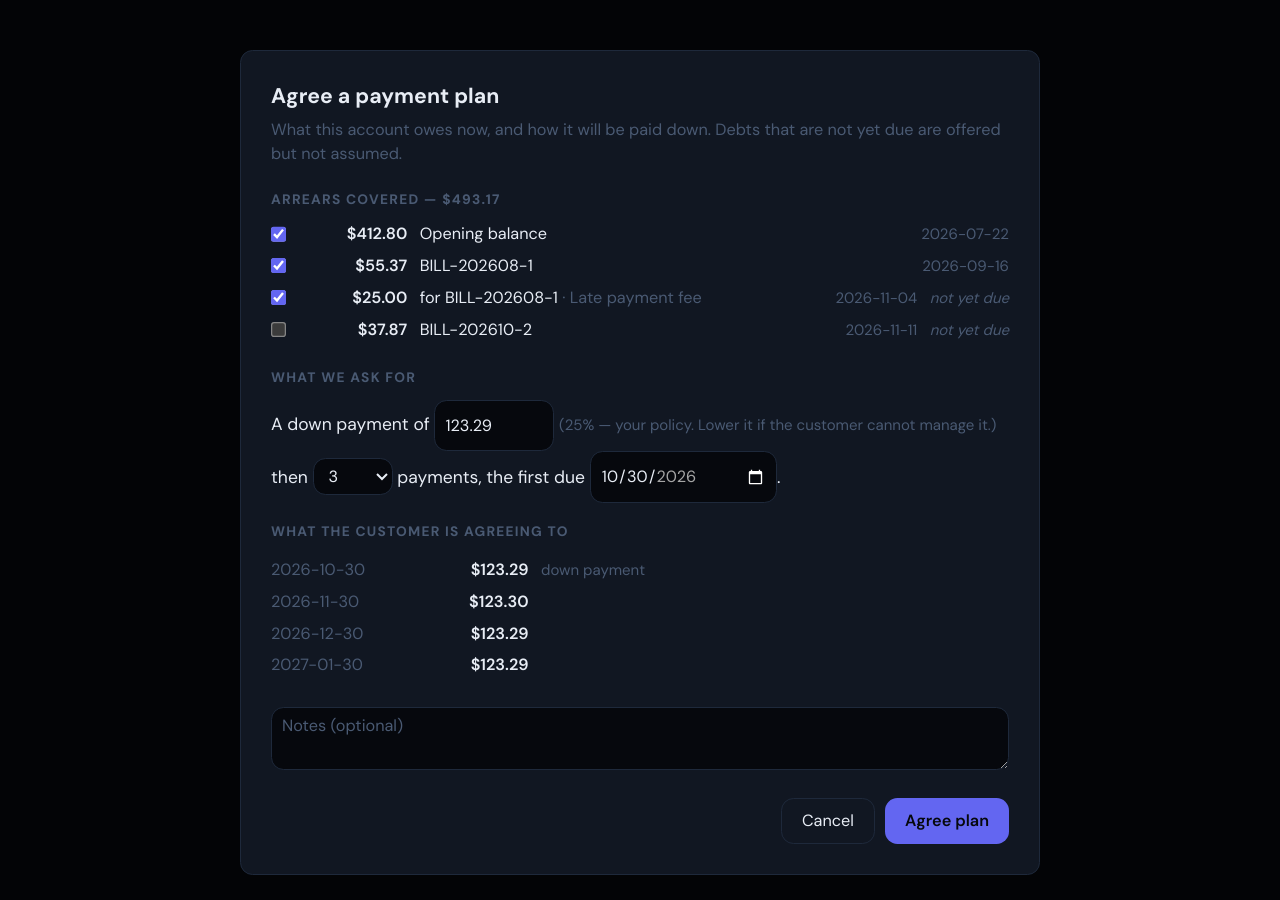
Test: agree plan dialog › refuses to agree a plan over nothing, at the control
What coordinates should you click on to do the following:
click the checkbox named "debt-e-1"
I would click on:
 (279, 234)
Its box is [271,226,287,243].
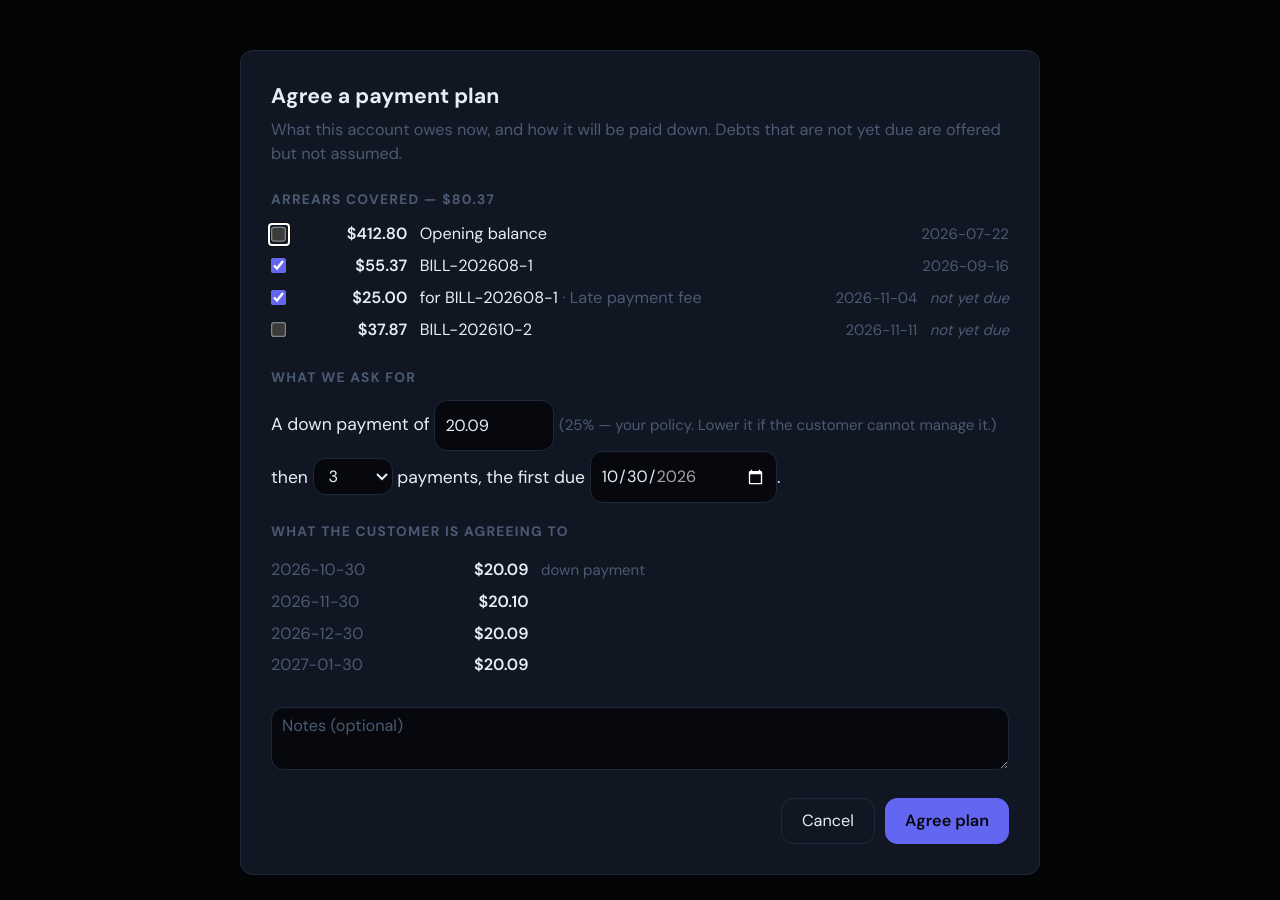
What coordinates should you click on to do the following:
click the checkbox named "debt-e-2"
I would click on:
 (279, 266)
Its box is [271,258,287,274].
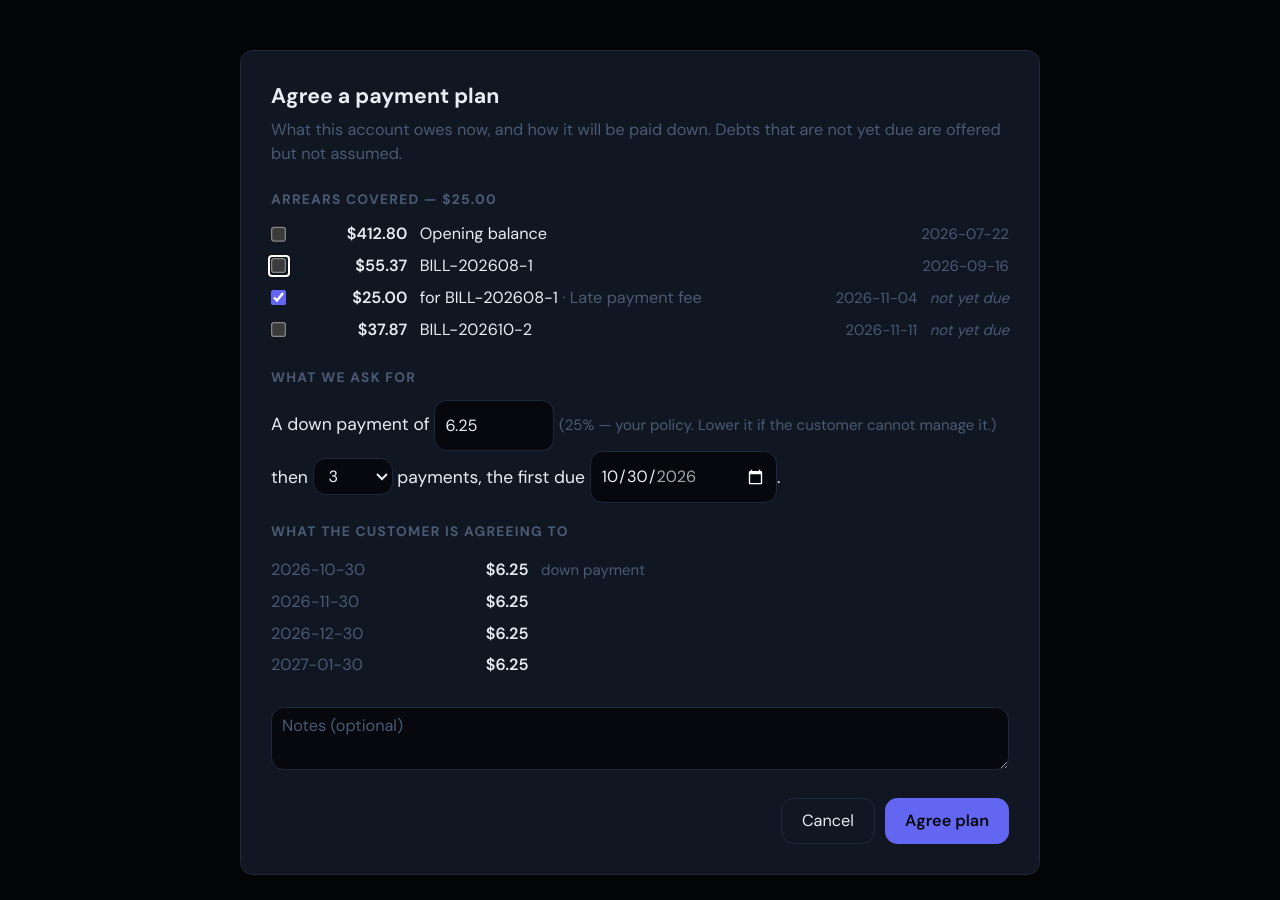
What coordinates should you click on to do the following:
click the checkbox named "debt-e-3"
I would click on:
 (279, 298)
Its box is [271,290,287,306].
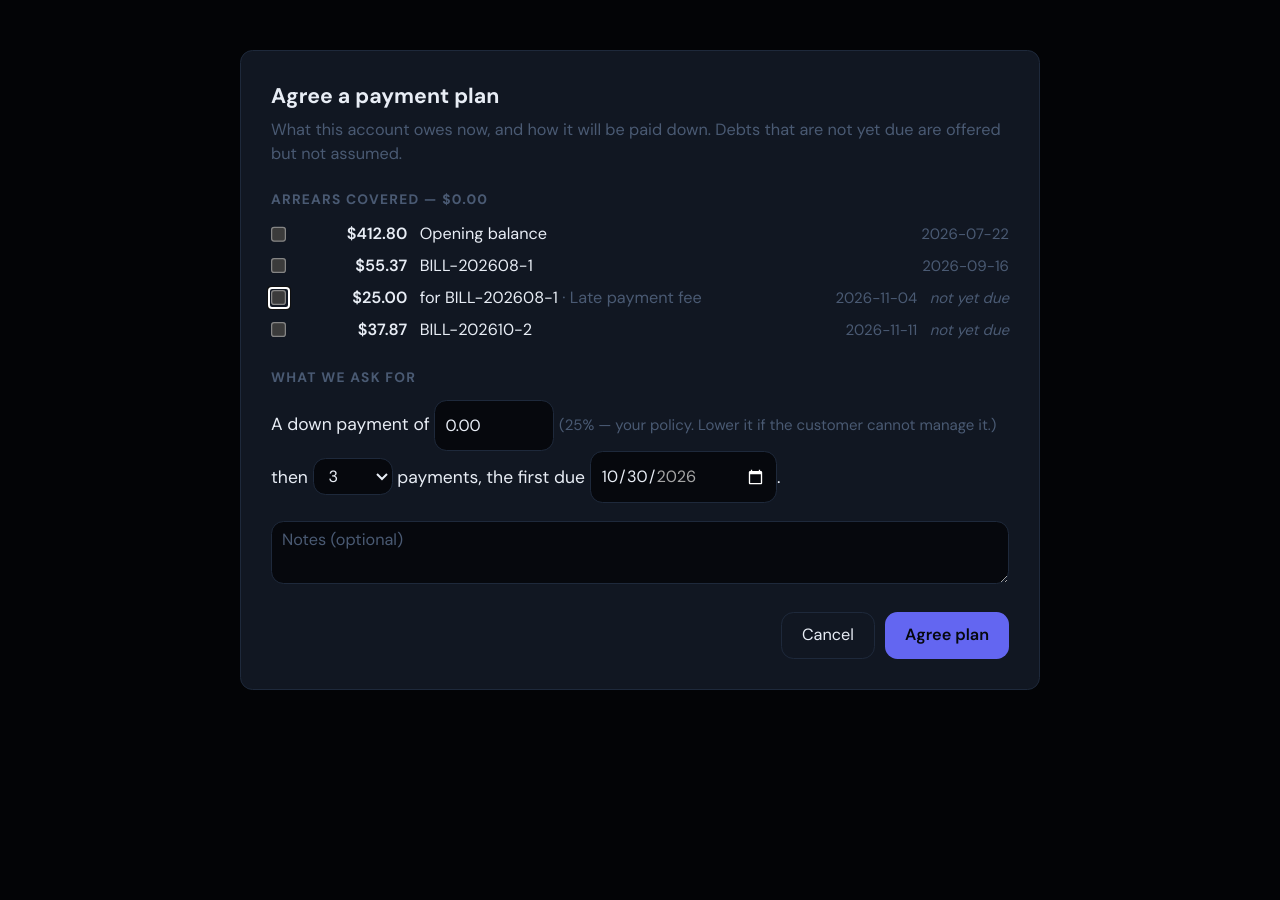
What coordinates should you click on to do the following:
click the button "Agree plan"
I would click on:
 (947, 635)
Its box is [885,612,1009,658].
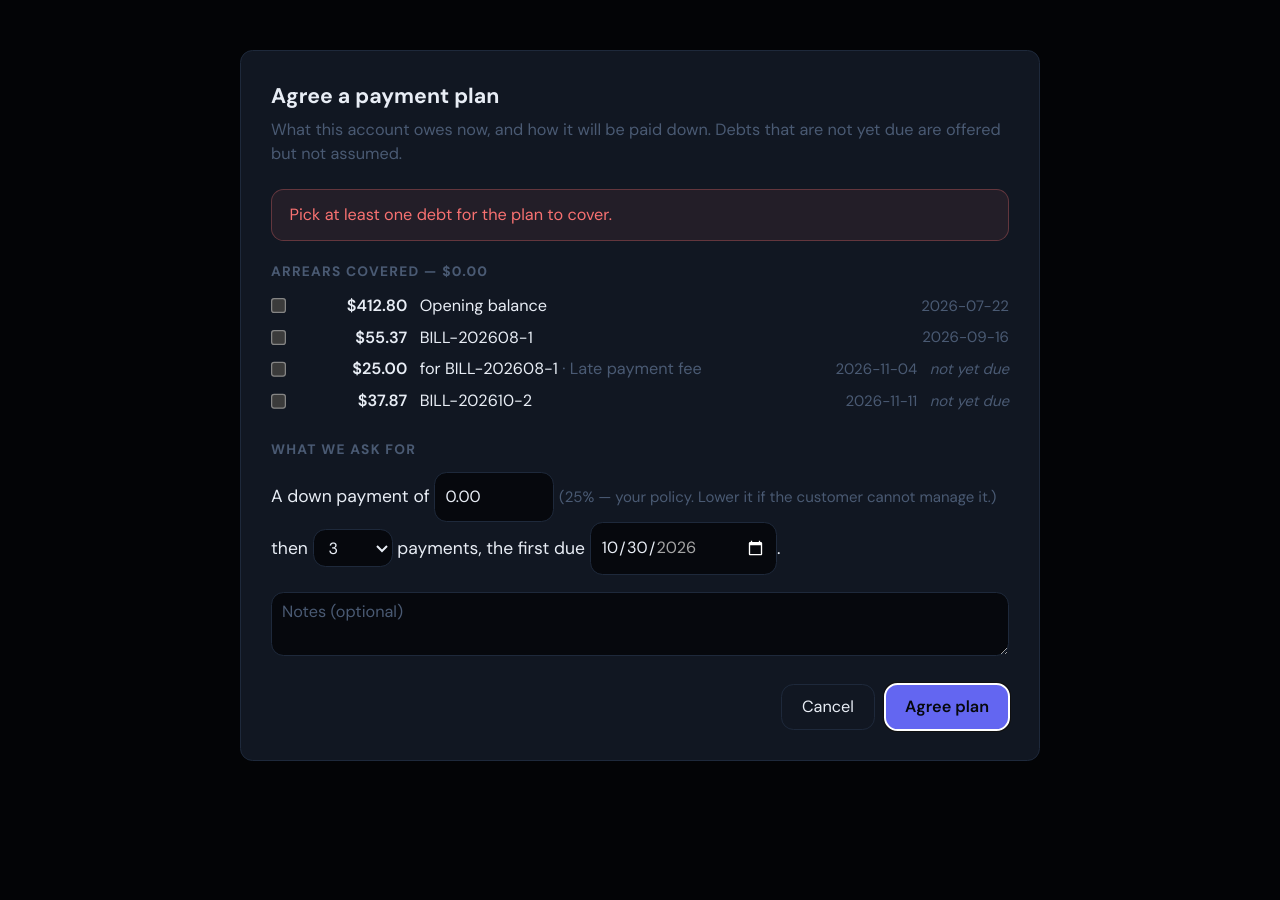
Now the text "Pick at least one debt for the plan to cover." is shown, box [271,189,1009,240]
